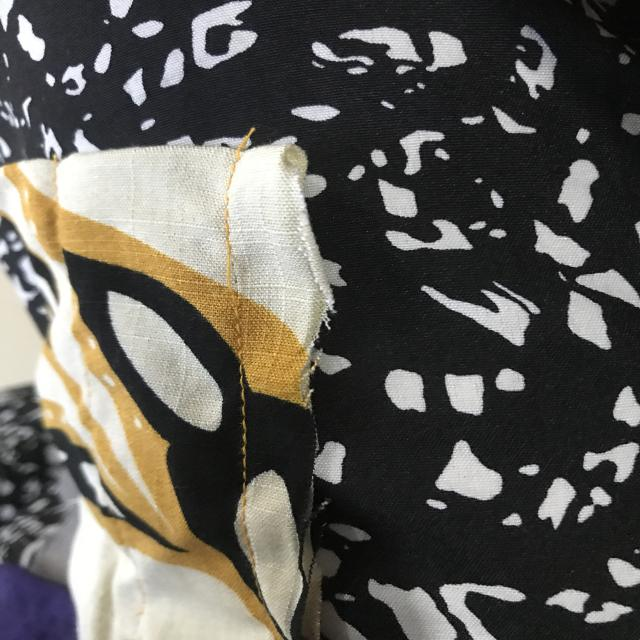skip: (211, 230, 263, 316)
